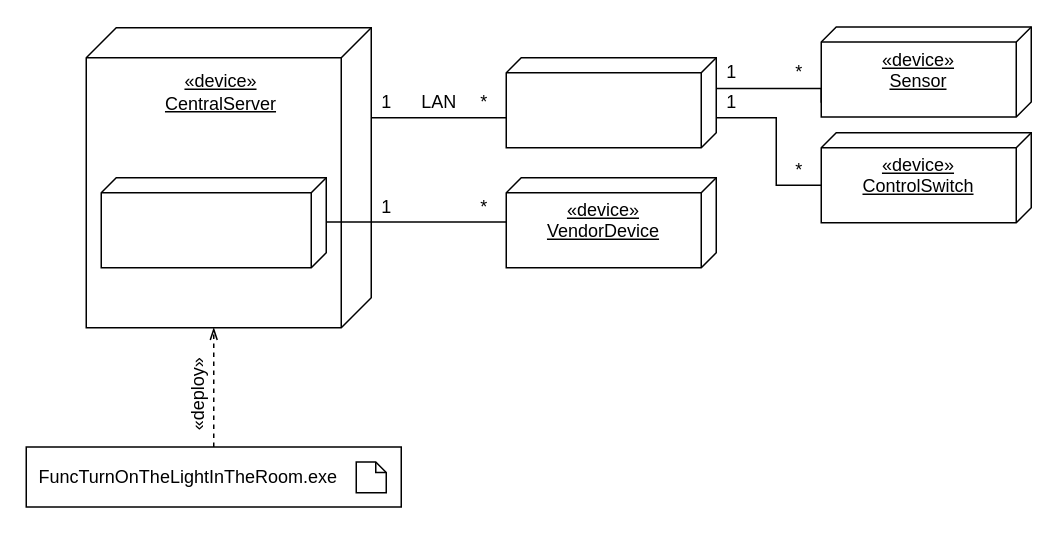
Image size: 1058x533. Some labels were removed from this diagram. Here are the shapes that lost their labels. From the top down, the centre of each, then its label:
At pixel 610 102: "«device» SubServer".
At pixel 213 222: "«executionEnvironment» PluginService".
